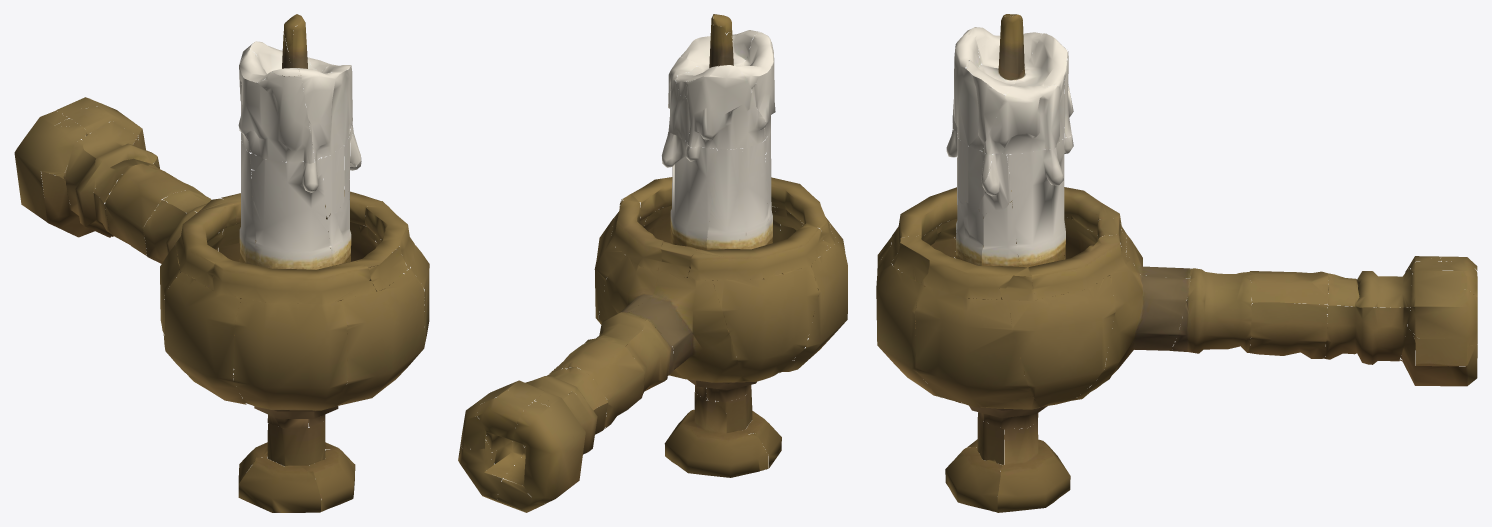
File: Prop_Flashlight_Ch3_Candle.glb
3 renders of one model, left to right at view 1: azimuth 30°, elevation 25°; view 2: azimuth 150°, elevation 25°; view 3: azimuth 270°, elevation 25°, orthographic. The views are drawn at different scales.
Parts seen in each view (by area): view 1: tripo_node_352dbe91-1cae-42bd-b4d7-ef0c69583a94; view 2: tripo_node_352dbe91-1cae-42bd-b4d7-ef0c69583a94; view 3: tripo_node_352dbe91-1cae-42bd-b4d7-ef0c69583a94.
Boxes of the visible parts, x1,y1,x2,y2 form: tripo_node_352dbe91-1cae-42bd-b4d7-ef0c69583a94: [14, 14, 429, 512]; tripo_node_352dbe91-1cae-42bd-b4d7-ef0c69583a94: [458, 14, 847, 512]; tripo_node_352dbe91-1cae-42bd-b4d7-ef0c69583a94: [876, 14, 1477, 512].
Size of the model in its own units: 0.4584 by 0.8717 by 1.
1 material, 1 textured.
